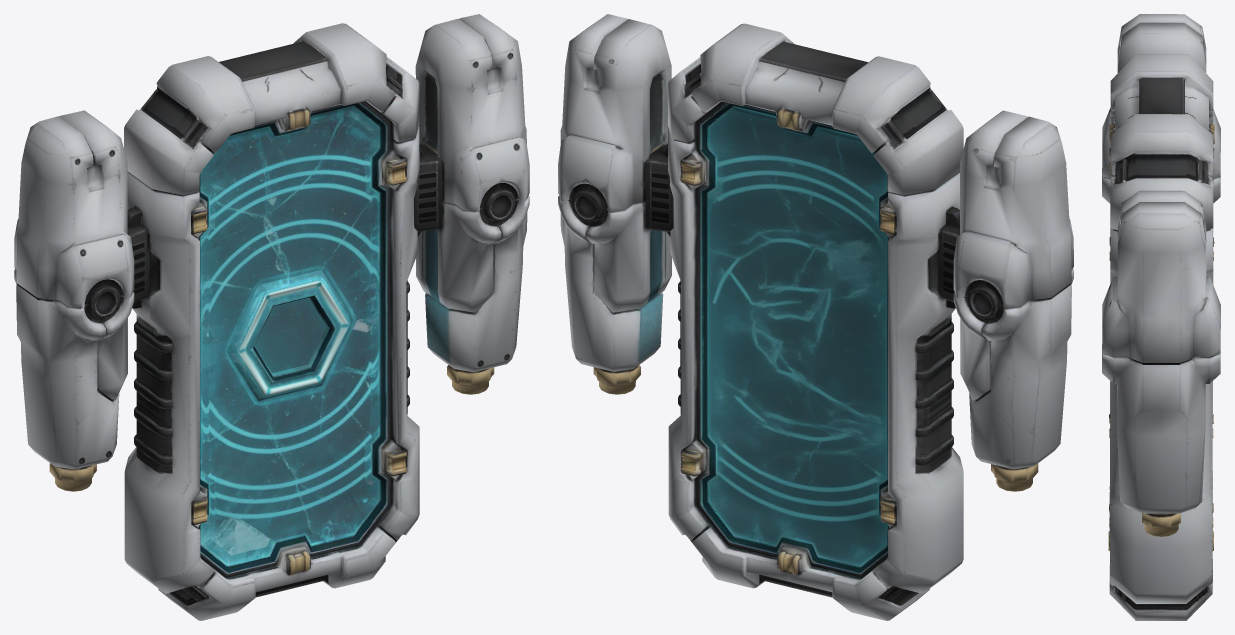
Rendered from selected.fbx.
3 views of the same model, side by side, from view 1: azimuth 30°, elevation 25°; view 2: azimuth 150°, elevation 25°; view 3: azimuth 270°, elevation 25° (orthographic). The views are drawn at different scales.
Visible parts, largest first — view 1: tripo_node_13ca3a42-3c5b-4005-ac61-471d90460b90; view 2: tripo_node_13ca3a42-3c5b-4005-ac61-471d90460b90; view 3: tripo_node_13ca3a42-3c5b-4005-ac61-471d90460b90.
Boxes of the visible parts, bbox=[...] form: tripo_node_13ca3a42-3c5b-4005-ac61-471d90460b90: bbox=[14, 14, 529, 620]; tripo_node_13ca3a42-3c5b-4005-ac61-471d90460b90: bbox=[558, 14, 1073, 620]; tripo_node_13ca3a42-3c5b-4005-ac61-471d90460b90: bbox=[1102, 14, 1220, 620].
Bounding box in the file's own units: 0.9595 × 0.9995 × 0.2192.
1 material, 1 textured.
